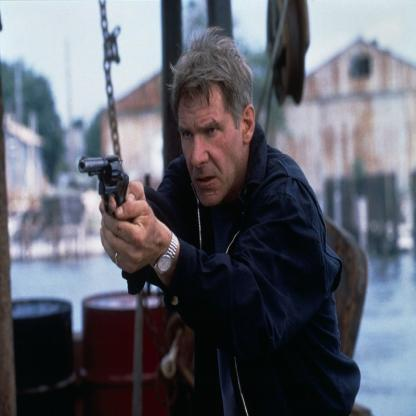gun: (78, 134, 141, 230)
